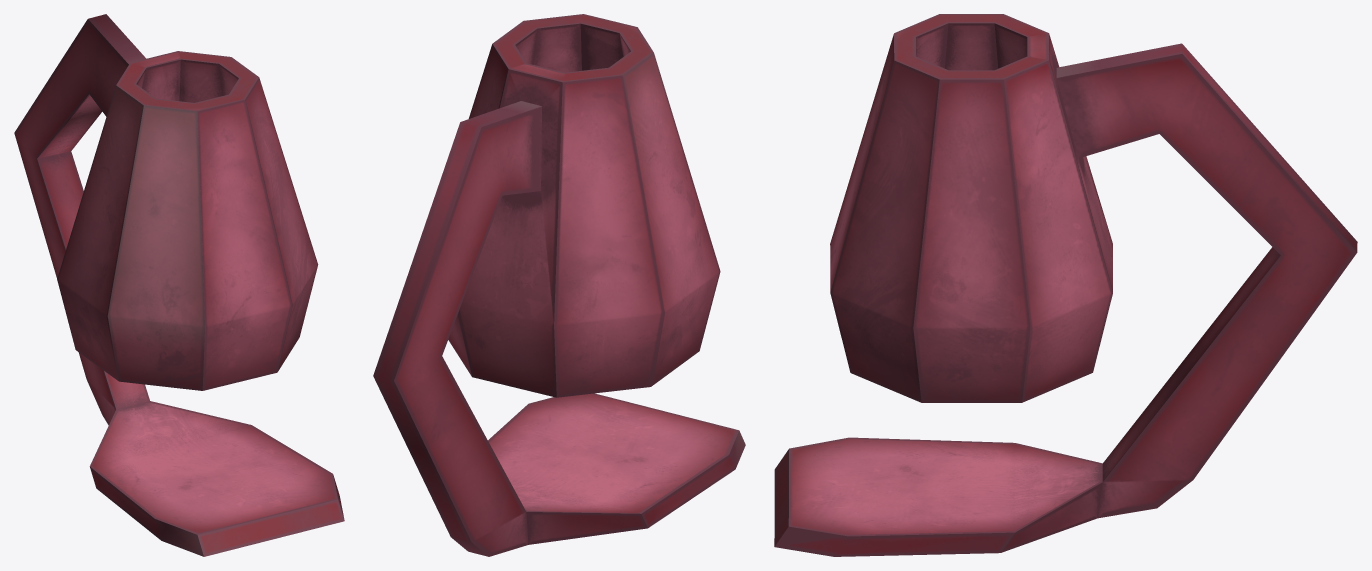
The model's file is Mesh_Mug.glb.
The picture shows the model from 3 angles, left to right: view 1: azimuth 30°, elevation 25°; view 2: azimuth 150°, elevation 25°; view 3: azimuth 270°, elevation 25°; orthographic projection. The views are drawn at different scales.
Visible parts, largest first — view 1: Mesh_Mug; view 2: Mesh_Mug; view 3: Mesh_Mug.
Boxes of the visible parts, x1,y1,x2,y2 form: Mesh_Mug: [14, 14, 344, 556]; Mesh_Mug: [373, 14, 745, 556]; Mesh_Mug: [774, 14, 1357, 556].
Size of the model in its own units: 0.1242 by 0.2235 by 0.256.
1 material, 1 textured.
